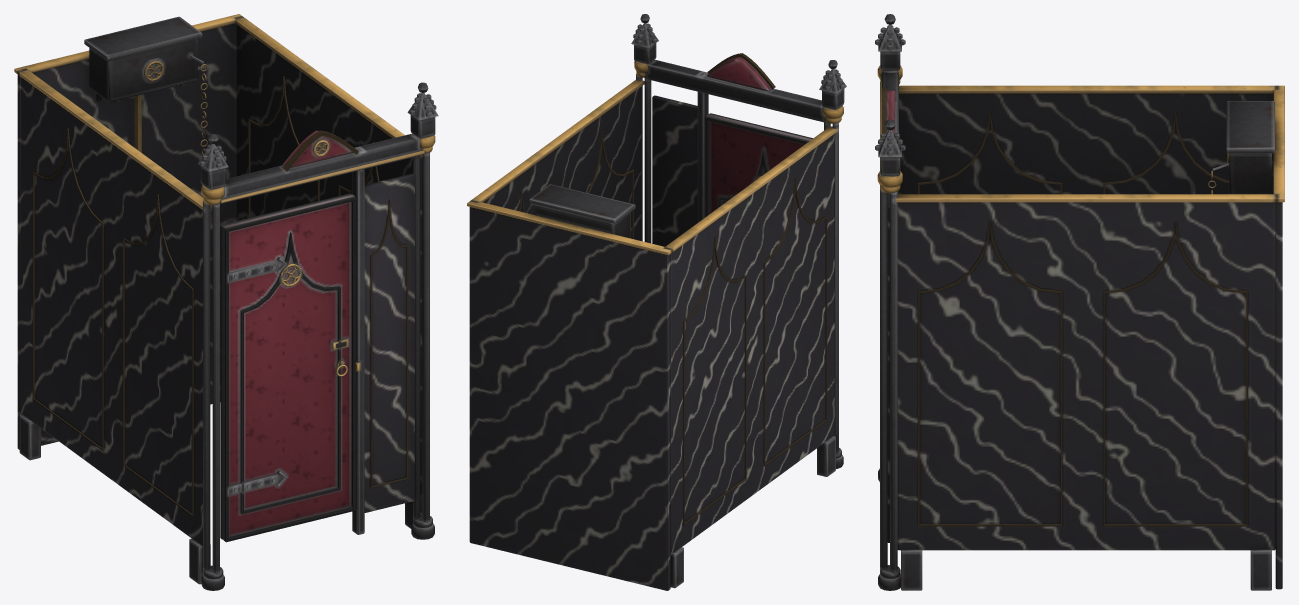
File: ToiletStall.fbx
3 renders of one model, left to right at view 1: azimuth 30°, elevation 25°; view 2: azimuth 150°, elevation 25°; view 3: azimuth 270°, elevation 25°, orthographic. The views are drawn at different scales.
Parts seen in each view (by area): view 1: ToiletStall_Body, ToiletStall_Door0; view 2: ToiletStall_Body, ToiletStall_Door0; view 3: ToiletStall_Body.
Boxes of the visible parts, left/top/right/bottom form: ToiletStall_Body: left=14, top=14, right=438, bottom=590; ToiletStall_Door0: left=220, top=193, right=356, bottom=542; ToiletStall_Body: left=467, top=14, right=846, bottom=590; ToiletStall_Door0: left=705, top=113, right=812, bottom=217; ToiletStall_Body: left=875, top=14, right=1284, bottom=590.
Bounding box in the file's own units: 391 × 722 × 574.
